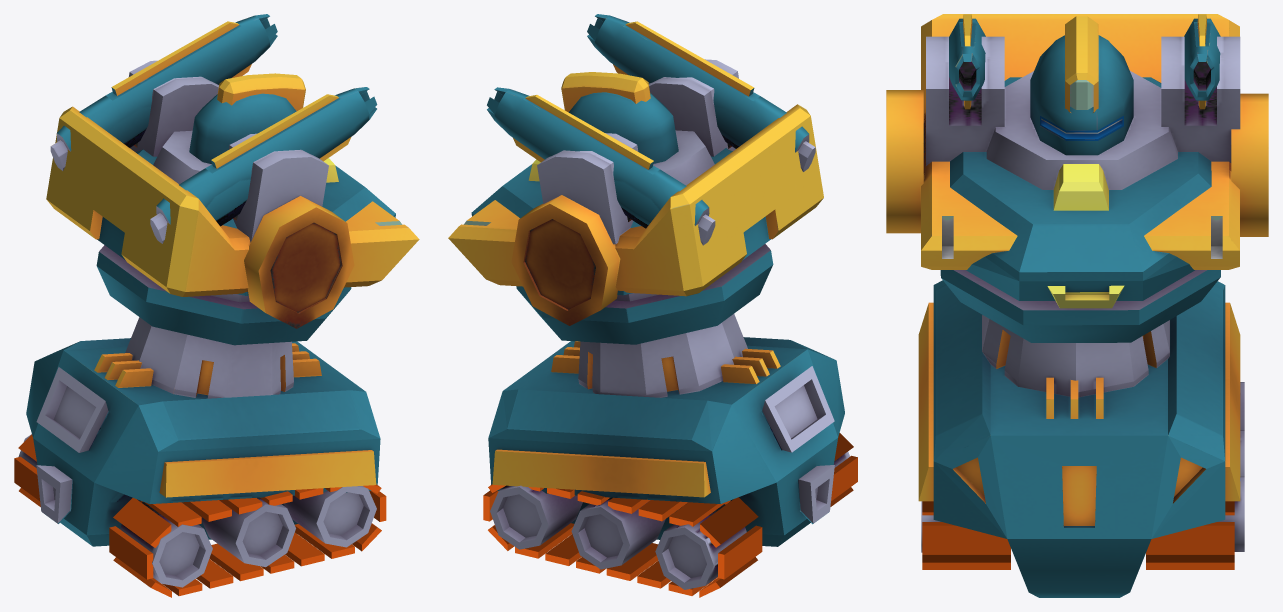
The model's file is Player_Move1.obj.
3 renders of one model, left to right at view 1: azimuth 30°, elevation 25°; view 2: azimuth 150°, elevation 25°; view 3: azimuth 270°, elevation 25°, orthographic. The views are drawn at different scales.
Visible parts, largest first — view 1: Object004, Object014, Box009, Box017, Box016; view 2: Object004, Object014, Box009, Box016, Box017; view 3: Object004, Object014, Box017, Box016, Box009.
Boxes of the visible parts, x1,y1,x2,y2 form: Object004: (26, 60, 419, 546); Object014: (50, 14, 377, 243); Box009: (18, 434, 376, 587); Box017: (109, 484, 386, 597); Box016: (14, 434, 40, 506); Object004: (448, 59, 844, 546); Object014: (487, 14, 815, 245); Box009: (490, 451, 849, 589); Box016: (483, 484, 762, 597); Box017: (830, 433, 857, 506); Object004: (886, 14, 1268, 597); Object014: (949, 14, 1220, 109); Box017: (922, 501, 1010, 569); Box016: (1146, 501, 1234, 569); Box009: (921, 382, 1244, 552).
Size of the model in its own units: 60.24 by 83.2 by 52.49.
